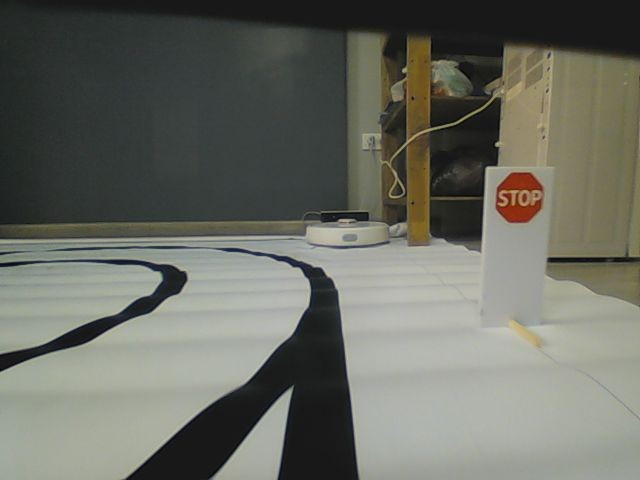Stop: (495, 171, 546, 223)
